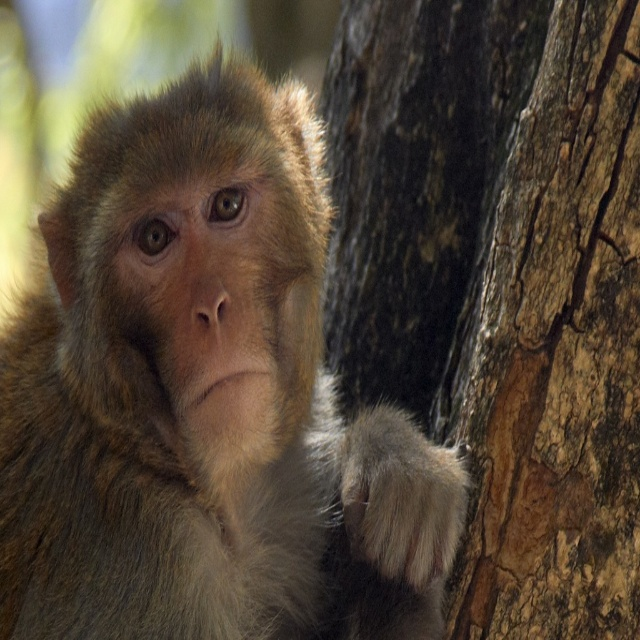Monkey: (0, 23, 478, 640)
